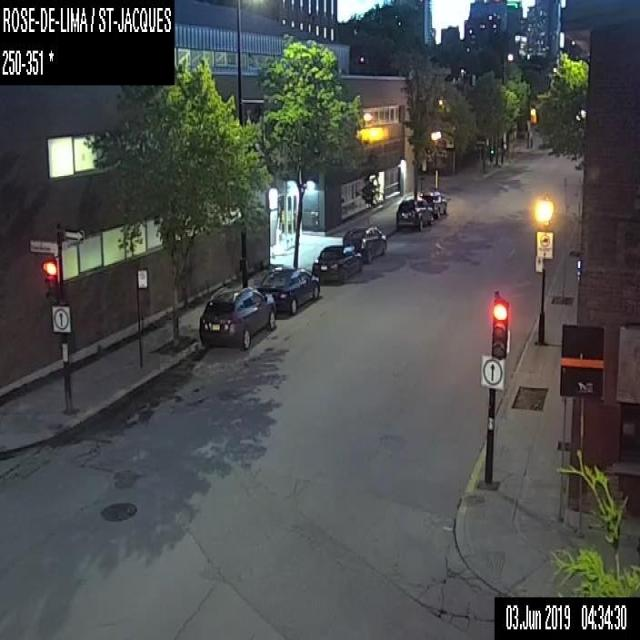vehicle: (198, 282, 276, 350), (258, 266, 320, 315), (312, 244, 363, 282), (343, 225, 386, 261), (394, 198, 434, 230), (420, 190, 446, 217)
